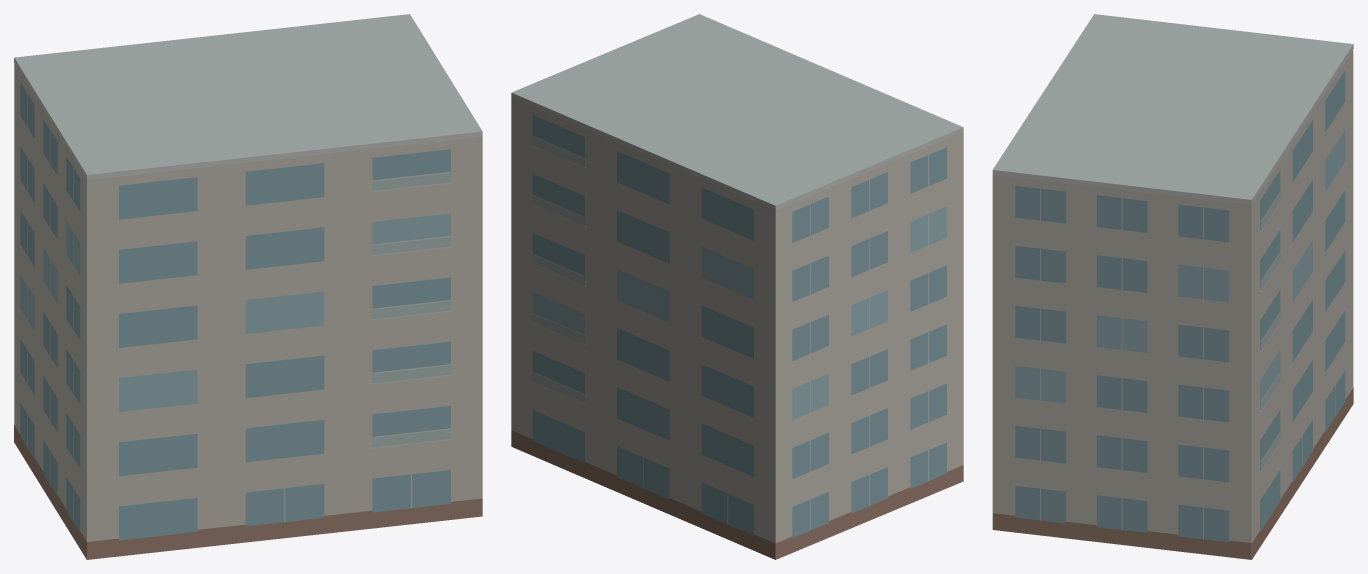
Rendered from survey-upis-32698959.glb.
The picture shows the model from 3 angles, left to right: view 1: azimuth 30°, elevation 25°; view 2: azimuth 150°, elevation 25°; view 3: azimuth 270°, elevation 25°; orthographic projection. The views are drawn at different scales.
Parts seen in each view (by area): view 1: survey-upis-32698959.tmp; view 2: survey-upis-32698959.tmp; view 3: survey-upis-32698959.tmp.
Boxes of the visible parts, x1,y1,x2,y2 form: survey-upis-32698959.tmp: [14, 14, 482, 559]; survey-upis-32698959.tmp: [511, 14, 963, 559]; survey-upis-32698959.tmp: [992, 14, 1353, 559].
Size of the model in its own units: 20.27 by 18.3 by 16.64.
